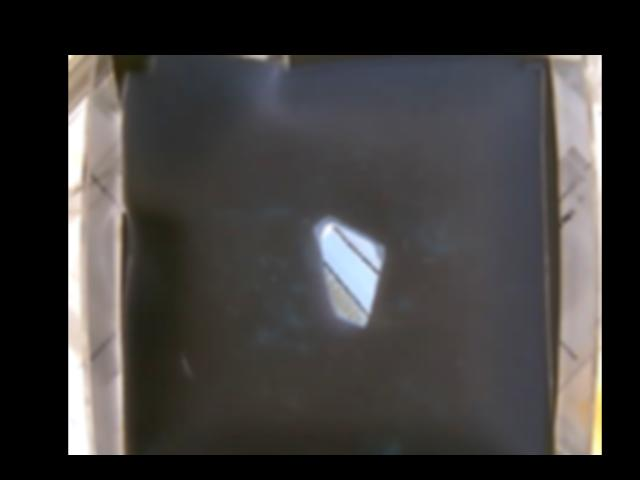China: (316, 216, 383, 326)
